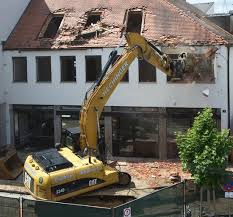excavator: (22, 36, 195, 201)
